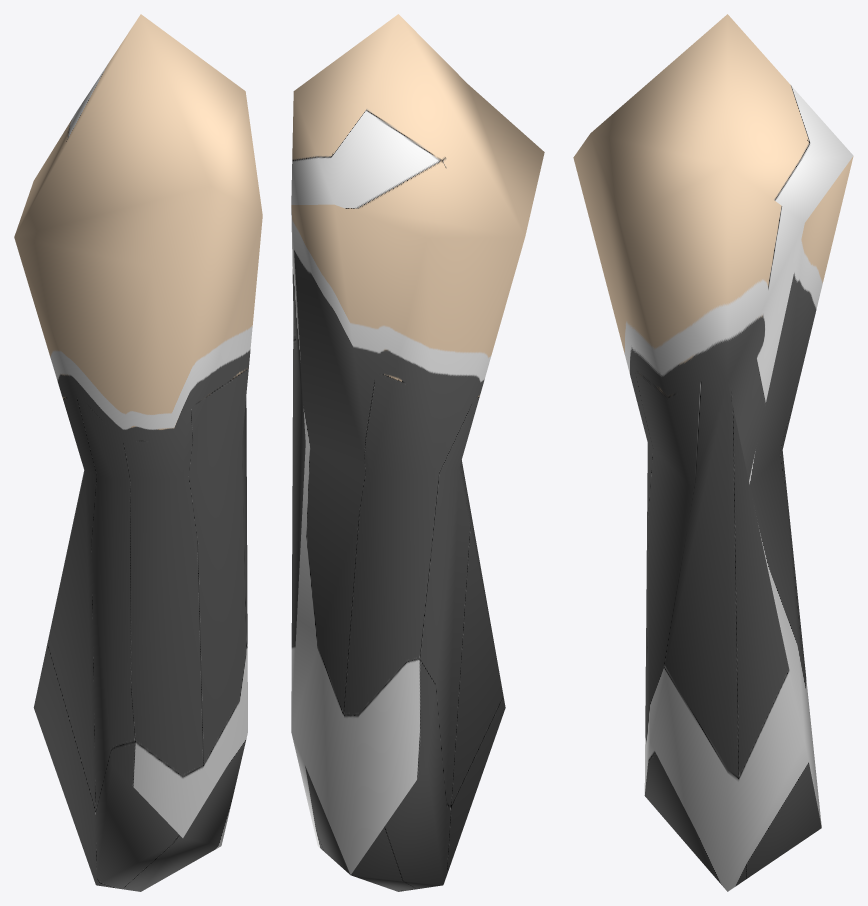
The model's file is playerRightLeg.obj.
3 views of the same model, side by side, from view 1: azimuth 30°, elevation 25°; view 2: azimuth 150°, elevation 25°; view 3: azimuth 270°, elevation 25° (orthographic).
Parts seen in each view (by area): view 1: 右足; view 2: 右足; view 3: 右足.
Part boxes in pixels (<box>): 右足: <box>14,14,262,891</box>; 右足: <box>291,14,544,891</box>; 右足: <box>573,14,853,891</box>.
Bounding box in the file's own units: 0.7211 × 2.61 × 0.7662.
